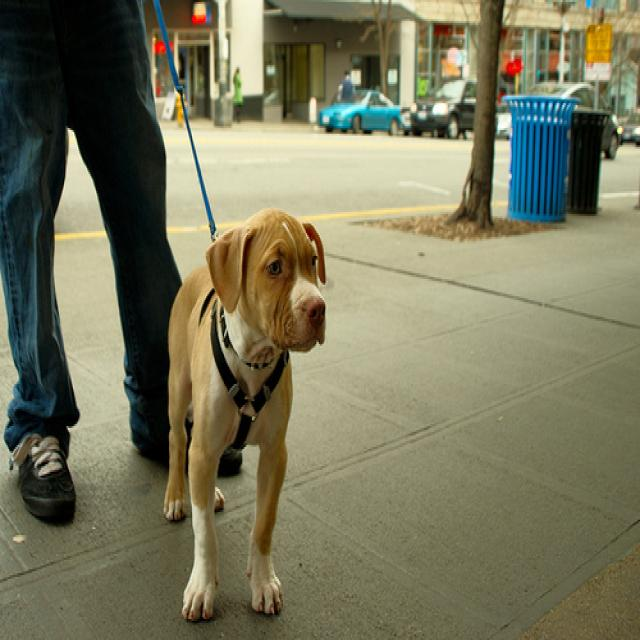dog-american_pit_bull_terrier: (155, 199, 329, 629)
